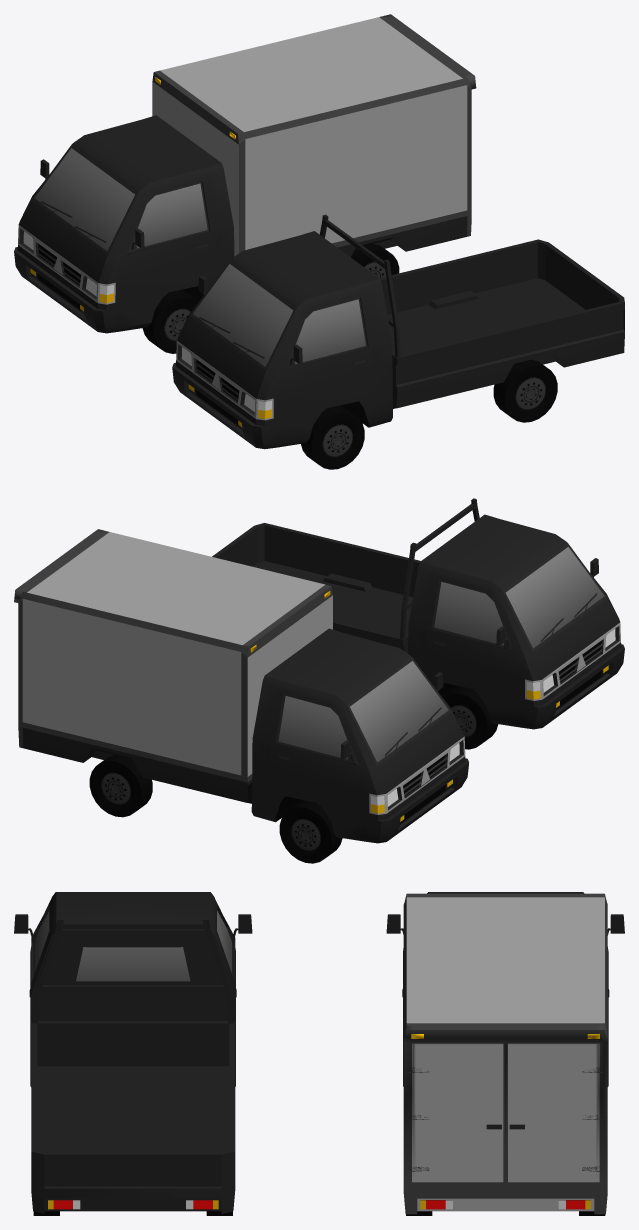
The model's file is your_car_model2.glb.
The picture shows the model from 3 angles, top to bottom: view 1: azimuth 30°, elevation 25°; view 2: azimuth 150°, elevation 25°; view 3: azimuth 270°, elevation 25°; orthographic projection. The views are drawn at different scales.
Visible parts, largest first — view 1: Object_3; view 2: Object_3; view 3: Object_3.
Part boxes in pixels (box(x1,y1,x2,y2)): Object_3: box(14, 14, 624, 469); Object_3: box(14, 498, 624, 863); Object_3: box(14, 892, 624, 1215).
Size of the model in its own units: 4.17 by 2.15 by 4.93.
Materials: 2 (2 with a texture image).
